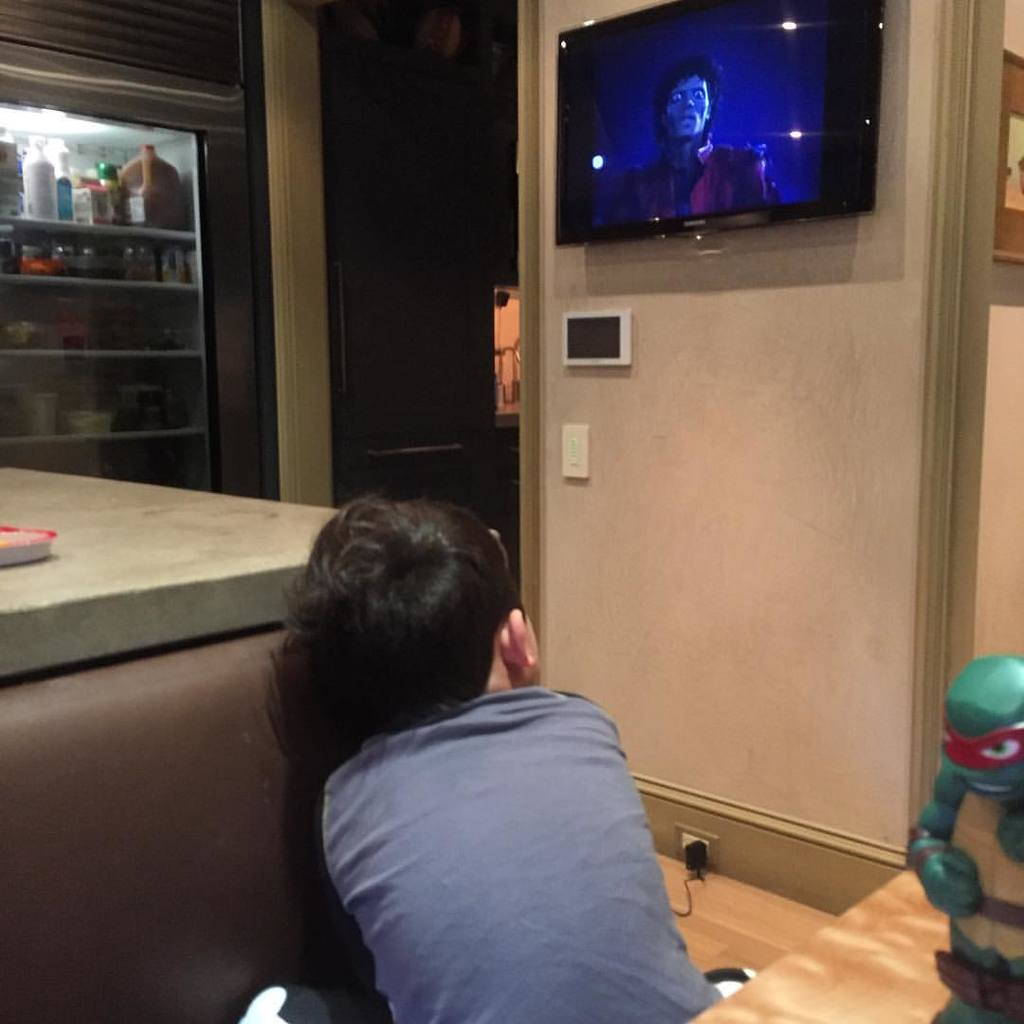Refrigerator: (0, 0, 278, 503)
